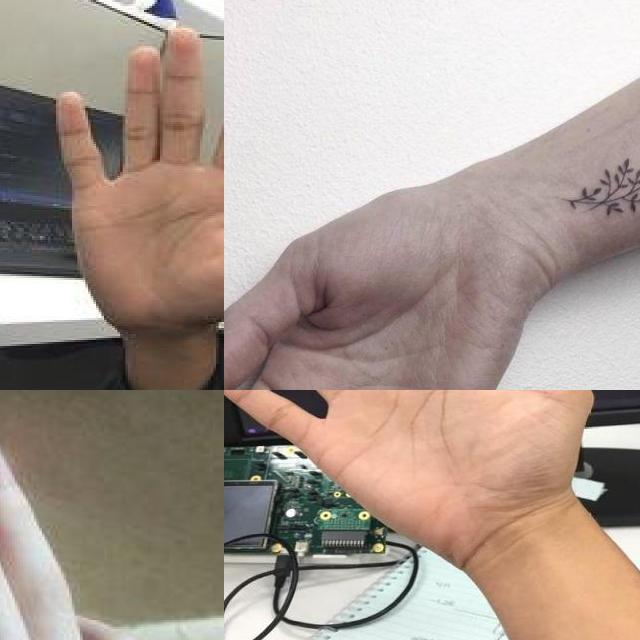hand: (224, 91, 566, 390), (224, 390, 595, 544), (0, 390, 224, 640), (53, 30, 224, 328)
